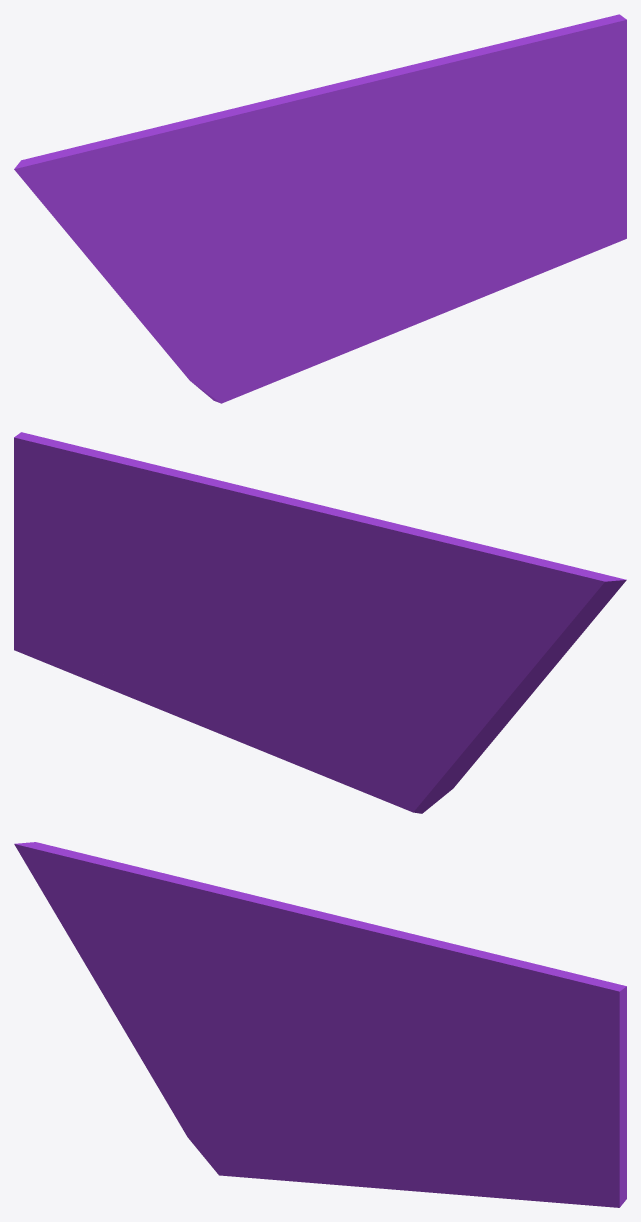
File: Glass_12_3_chunks.fbx
3 renders of one model, top to bottom at view 1: azimuth 30°, elevation 25°; view 2: azimuth 150°, elevation 25°; view 3: azimuth 330°, elevation 25°, orthographic.
Parts seen in each view (by area): view 1: Glass_12_3_10, Glass_12_3_7, Glass_12_3_9, Glass_12_3_18, Glass_12_3_0, Glass_12_3_1, Glass_12_3_11, Glass_12_3_14, Glass_12_3_4, Glass_12_3_17, Glass_12_3_2, Glass_12_3_16 (+5 smaller); view 2: Glass_12_3_10, Glass_12_3_7, Glass_12_3_11, Glass_12_3_8, Glass_12_3_2, Glass_12_3_18, Glass_12_3_0, Glass_12_3_12, Glass_12_3_6, Glass_12_3_4, Glass_12_3_17, Glass_12_3_13 (+5 smaller); view 3: Glass_12_3_10, Glass_12_3_7, Glass_12_3_9, Glass_12_3_18, Glass_12_3_0, Glass_12_3_1, Glass_12_3_11, Glass_12_3_14, Glass_12_3_4, Glass_12_3_17, Glass_12_3_2, Glass_12_3_16 (+5 smaller).
Part boxes in pixels (left/top/right/bottom): Glass_12_3_10: left=409, top=14, right=626, bottom=177; Glass_12_3_7: left=336, top=65, right=477, bottom=260; Glass_12_3_9: left=441, top=158, right=626, bottom=271; Glass_12_3_18: left=14, top=143, right=169, bottom=264; Glass_12_3_0: left=99, top=272, right=246, bottom=403; Glass_12_3_1: left=210, top=226, right=300, bottom=392; Glass_12_3_11: left=86, top=102, right=287, bottom=204; Glass_12_3_14: left=255, top=78, right=381, bottom=179; Glass_12_3_4: left=354, top=263, right=543, bottom=349; Glass_12_3_17: left=163, top=163, right=282, bottom=265; Glass_12_3_2: left=270, top=211, right=341, bottom=336; Glass_12_3_16: left=93, top=229, right=227, bottom=281; Glass_12_3_10: left=14, top=432, right=228, bottom=591; Glass_12_3_7: left=162, top=483, right=286, bottom=664; Glass_12_3_11: left=344, top=521, right=540, bottom=636; Glass_12_3_8: left=14, top=579, right=191, bottom=676; Glass_12_3_2: left=306, top=637, right=424, bottom=803; Glass_12_3_18: left=467, top=554, right=626, bottom=673; Glass_12_3_0: left=391, top=681, right=542, bottom=813; Glass_12_3_12: left=241, top=492, right=345, bottom=611; Glass_12_3_6: left=257, top=689, right=367, bottom=793; Glass_12_3_4: left=81, top=674, right=270, bottom=754; Glass_12_3_17: left=372, top=597, right=473, bottom=679; Glass_12_3_13: left=275, top=598, right=373, bottom=664; Glass_12_3_10: left=412, top=935, right=626, bottom=1129; Glass_12_3_7: left=332, top=931, right=472, bottom=1139; Glass_12_3_9: left=436, top=1076, right=626, bottom=1207; Glass_12_3_18: left=14, top=842, right=167, bottom=975; Glass_12_3_0: left=99, top=987, right=243, bottom=1177; Glass_12_3_1: left=208, top=1023, right=296, bottom=1179; Glass_12_3_11: left=100, top=857, right=284, bottom=1001; Glass_12_3_14: left=252, top=899, right=379, bottom=994; Glass_12_3_4: left=350, top=1130, right=537, bottom=1201; Glass_12_3_17: left=162, top=913, right=279, bottom=1041; Glass_12_3_2: left=267, top=1015, right=338, bottom=1146; Glass_12_3_16: left=92, top=969, right=224, bottom=1049.
Size of the model in its own units: 1293 by 575 by 27.2.
